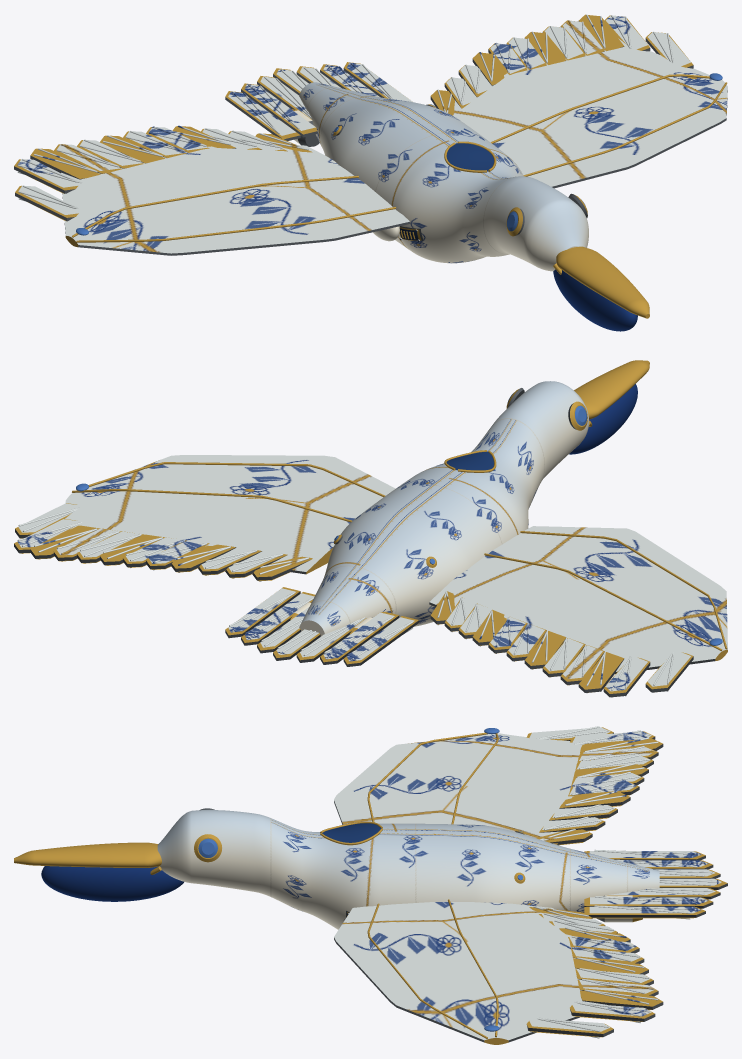
The picture shows the model from 3 angles, top to bottom: view 1: azimuth 30°, elevation 25°; view 2: azimuth 150°, elevation 25°; view 3: azimuth 270°, elevation 25°; orthographic projection. The views are drawn at different scales.
Parts seen in each view (by area): view 1: pelican_hull; view 2: pelican_hull; view 3: pelican_hull.
Boxes of the visible parts, x1,y1,x2,y2 form: pelican_hull: [14, 14, 727, 331]; pelican_hull: [14, 360, 727, 697]; pelican_hull: [14, 726, 727, 1044].
Bounding box in the file's own units: 256 × 48.56 × 252.
1 material, 1 textured.
